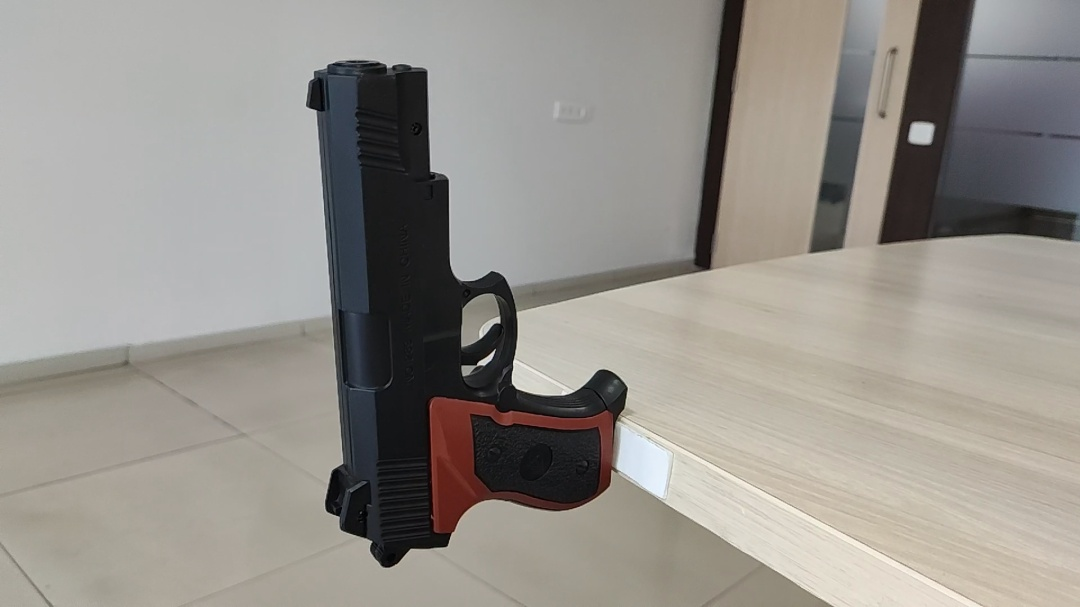gun: (296, 57, 629, 568)
